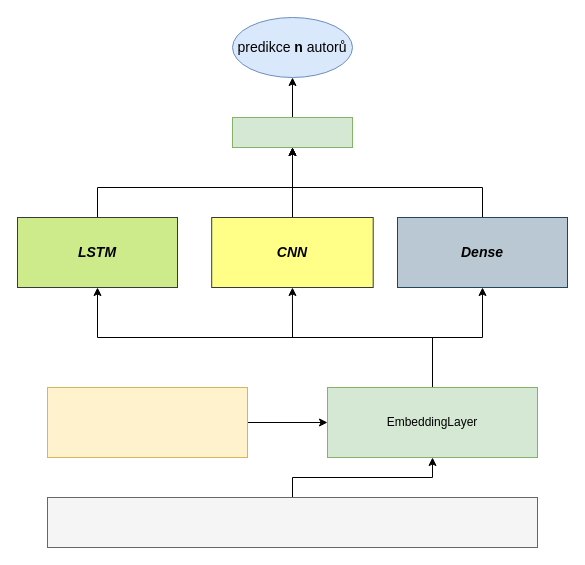
Image size: 585x565. Some labels were removed from this diagram. Here are the shapes that lost their labels. From the top down, the centre of each, then its label:
At pixel 292 132: "softmax funkce".
At pixel 147 422: "Bezkontextové vnoření slov ( Word2Vec , GloVe )".
At pixel 292 522: "(k vět, identifikátor autora)".
